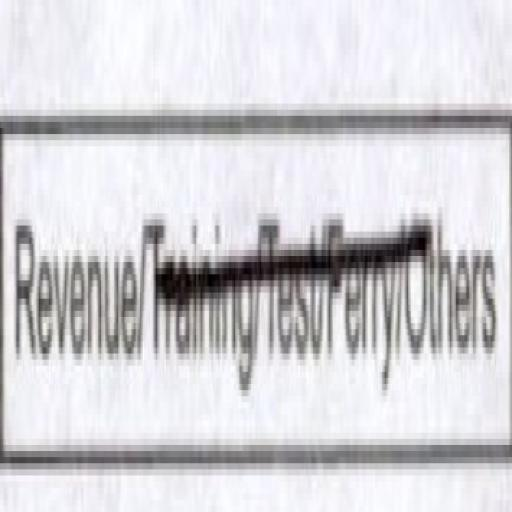check: (0, 49, 142, 512)
